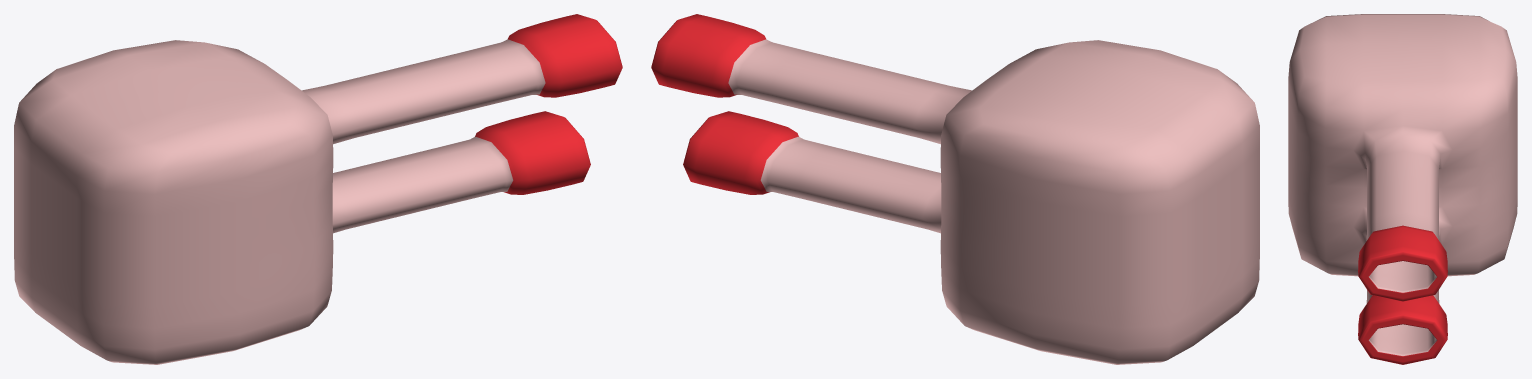
File: Torre.fbx
The picture shows the model from 3 angles, left to right: view 1: azimuth 30°, elevation 25°; view 2: azimuth 150°, elevation 25°; view 3: azimuth 270°, elevation 25°; orthographic projection. The views are drawn at different scales.
Parts seen in each view (by area): view 1: Weapon.001; view 2: Weapon.001; view 3: Weapon.001.
Boxes of the visible parts, <box> form: Weapon.001: <box>14,14,622,364</box>; Weapon.001: <box>651,14,1259,364</box>; Weapon.001: <box>1288,14,1517,364</box>.
Bounding box in the file's own units: 317 × 123 × 135.
